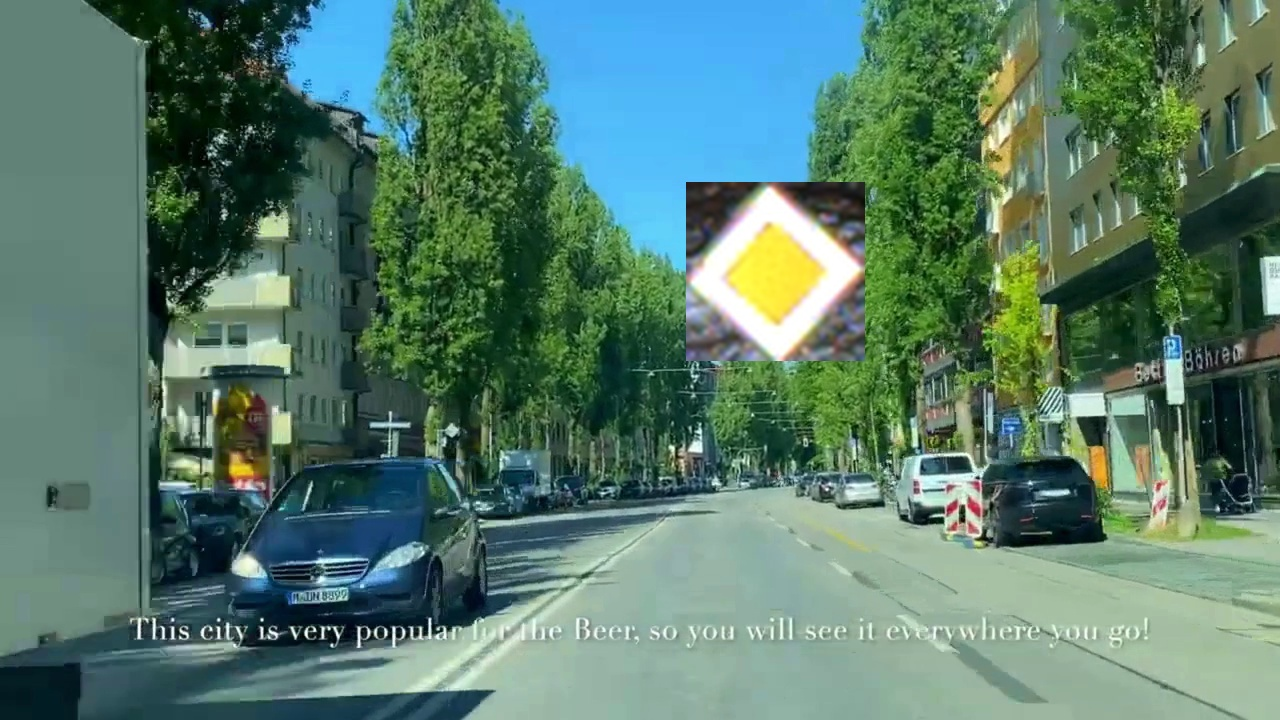Priority road: (686, 182, 865, 361)
